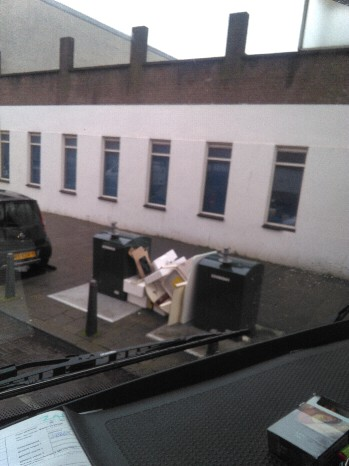Container: (190, 247, 261, 327), (84, 226, 136, 297)
Rest: (146, 251, 205, 324)
Voertuig: (3, 188, 57, 278)
